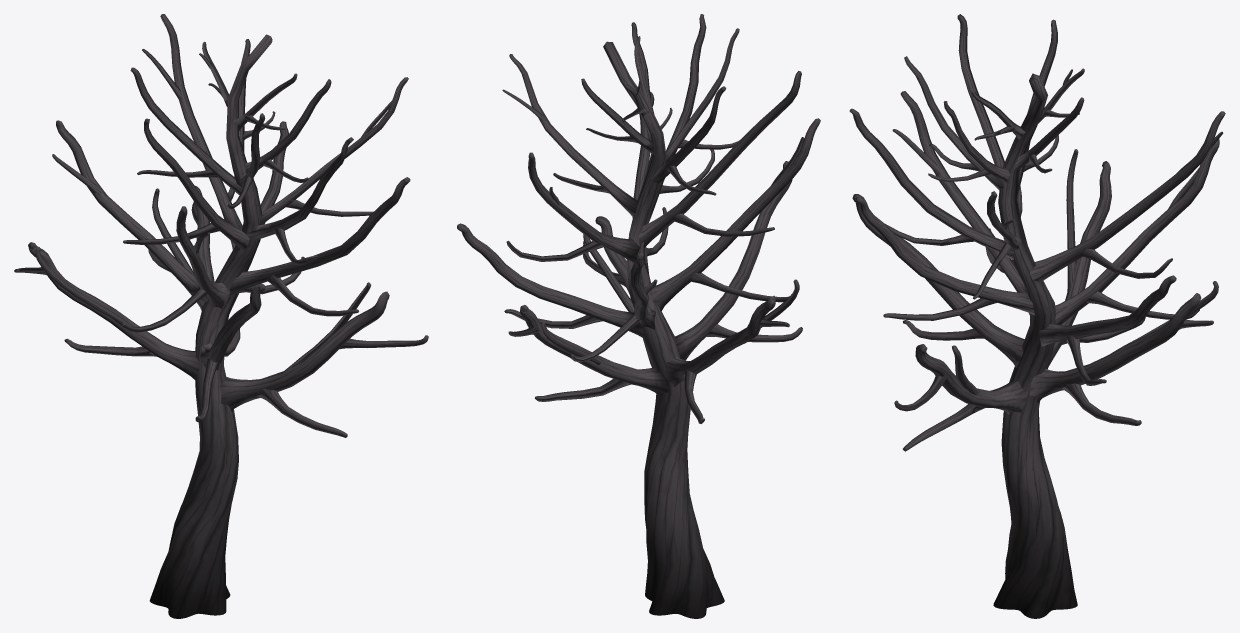
File: sn_dead_tree_1.glb
The picture shows the model from 3 angles, left to right: view 1: azimuth 30°, elevation 25°; view 2: azimuth 150°, elevation 25°; view 3: azimuth 270°, elevation 25°; orthographic projection. The views are drawn at different scales.
Parts seen in each view (by area): view 1: DeadTree_1; view 2: DeadTree_1; view 3: DeadTree_1.
Part boxes in pixels (left/top/right/bottom): DeadTree_1: left=14, top=14, right=428, bottom=618; DeadTree_1: left=457, top=14, right=820, bottom=618; DeadTree_1: left=849, top=14, right=1225, bottom=618.
Bounding box in the file's own units: 6.15 × 9.5 × 5.75.
1 material, 1 textured.
